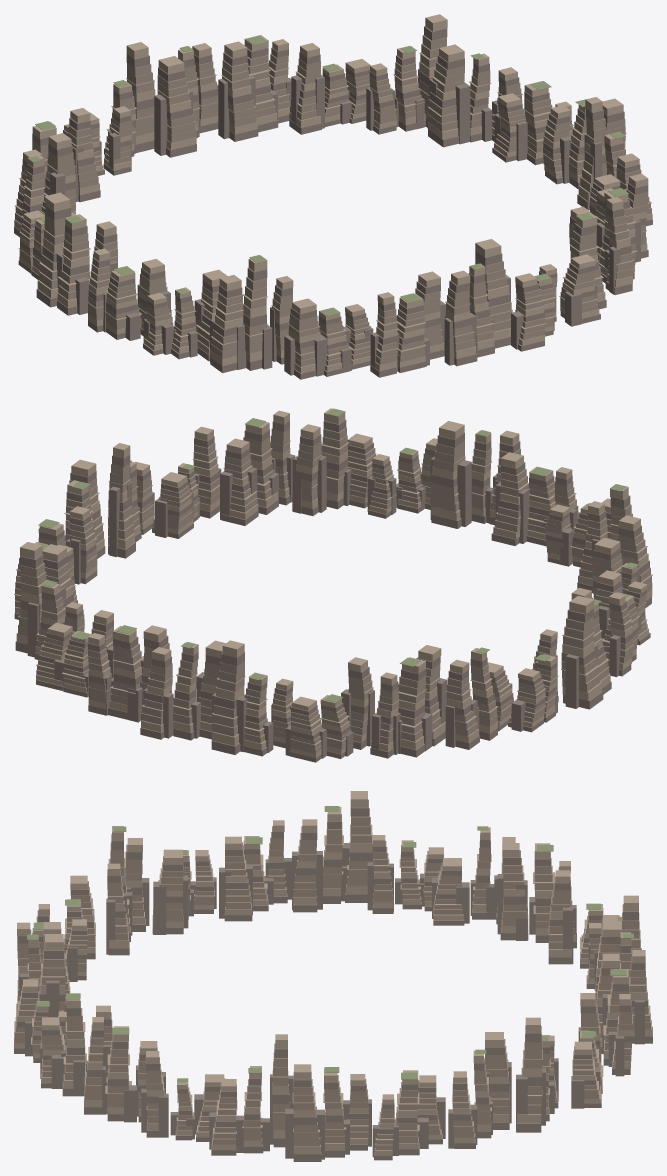
File: CanyonVista.fbx
3 views of the same model, one above another, from view 1: azimuth 30°, elevation 25°; view 2: azimuth 150°, elevation 25°; view 3: azimuth 270°, elevation 25° (orthographic).
Visible parts, largest first — view 1: CanyonVista; view 2: CanyonVista; view 3: CanyonVista.
Part boxes in pixels (box(x1,y1,x2,y2)): CanyonVista: box(14, 14, 652, 379); CanyonVista: box(14, 408, 652, 762); CanyonVista: box(14, 791, 652, 1161).
Size of the model in its own units: 372 by 69.05 by 369.
